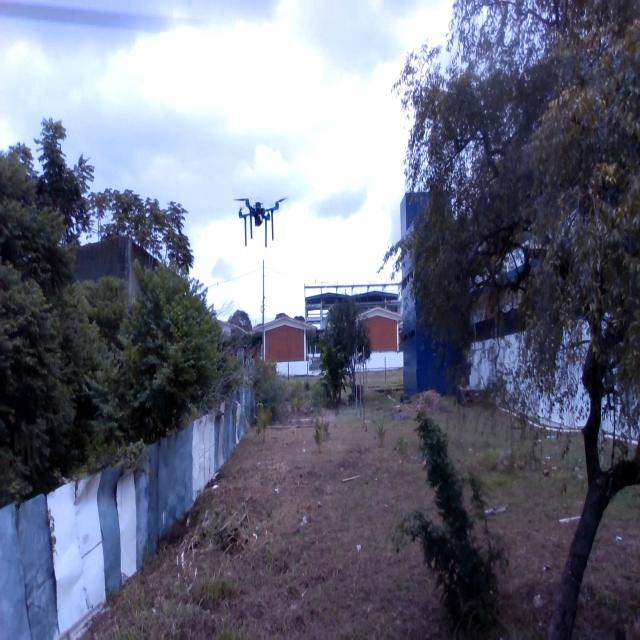-uav-: (232, 182, 288, 259)
